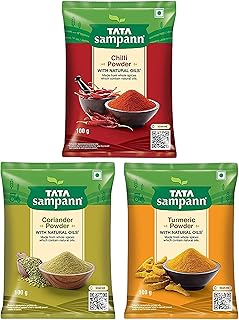Chilli Powder: (62, 2, 177, 160)
Coriander: (1, 163, 115, 319)
Turmeric: (124, 164, 239, 320)
